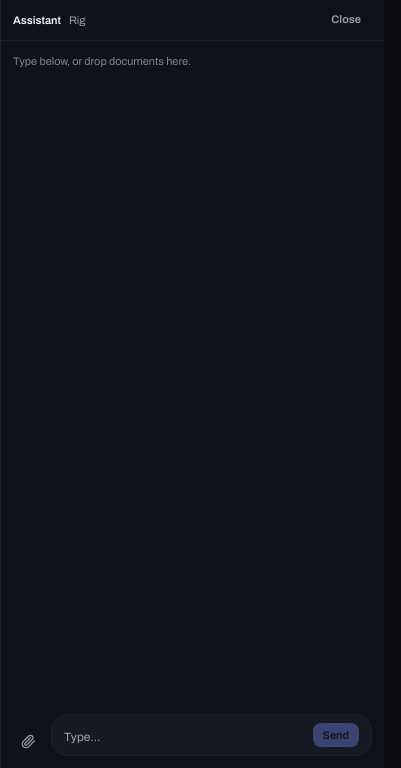
Test case: AssistDock — the chat block › seat replies render as MARKDOWN — the shared component, never ##-visible raw text (E3)
The image size is (401, 768).
Type "diagnose" into the text box with test id "assist-input" at (184, 737), box [64,727,304,747]
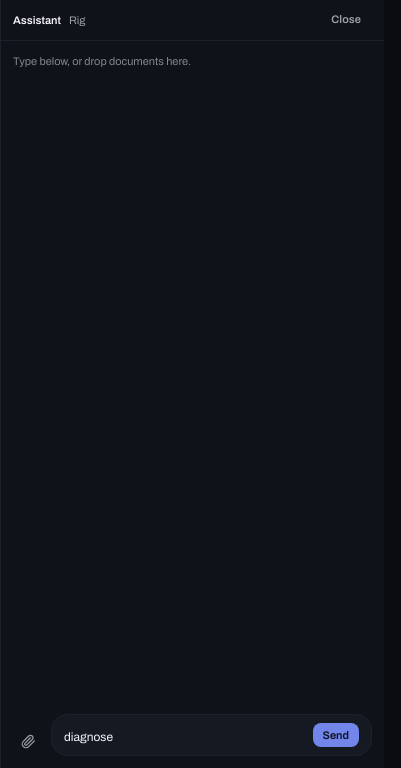
Click the button with test id "assist-send" at (336, 735), box [312,722,359,747]
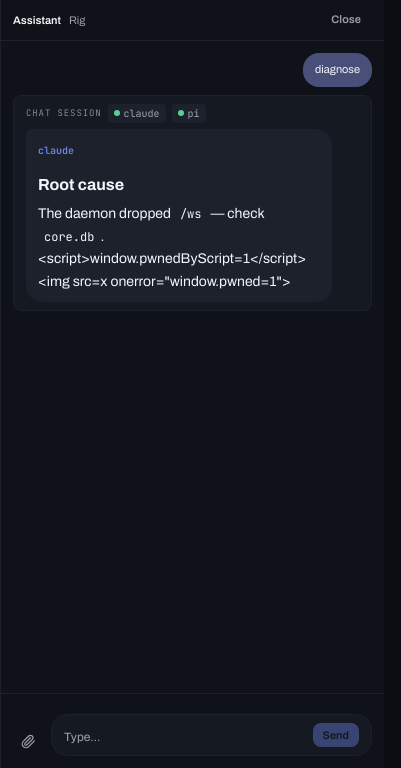
expect the element with test id "assist-chat" is shown: met, box [13,95,372,311]
expect the heading "Root cause" is shown: met, box [38,176,124,193]
